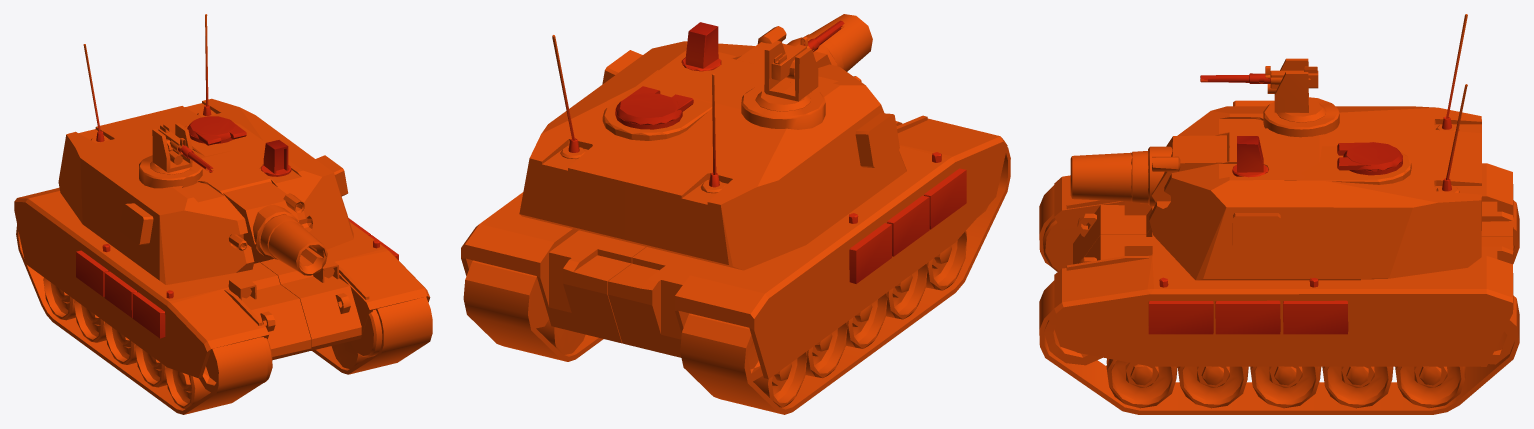
Rendered from WbMdTankLowpoly.fbx.
The picture shows the model from 3 angles, left to right: view 1: azimuth 30°, elevation 25°; view 2: azimuth 150°, elevation 25°; view 3: azimuth 270°, elevation 25°; orthographic projection. The views are drawn at different scales.
Parts seen in each view (by area): view 1: Body.002, TurretMain.002, BarrelCannon.002, Wheel.021, Wheel.019, Wheel.017, Wheel.018, Wheel.020, BarrelMachineGun.001, Wheel.012, WheelFixed.007; view 2: Body.002, TurretMain.002, BarrelCannon.002, Wheel.017, Wheel.021, Wheel.020, Wheel.018, Wheel.019, BarrelMachineGun.001, Wheel.016, WheelFixed.005; view 3: Body.002, TurretMain.002, BarrelCannon.002, Wheel.012, Wheel.014, Wheel.013, Wheel.016, Wheel.015, BarrelMachineGun.001, WheelFixed.004, WheelFixed.005.
Part boxes in pixels (bbox=[...]): Body.002: bbox=[14, 187, 432, 414]; TurretMain.002: bbox=[58, 14, 353, 284]; BarrelCannon.002: bbox=[223, 181, 327, 275]; Wheel.021: bbox=[165, 366, 210, 408]; Wheel.019: bbox=[104, 322, 136, 364]; Wheel.017: bbox=[43, 277, 75, 320]; Wheel.018: bbox=[74, 300, 106, 342]; Wheel.020: bbox=[135, 344, 167, 387]; BarrelMachineGun.001: bbox=[158, 124, 213, 172]; Wheel.012: bbox=[331, 341, 367, 368]; WheelFixed.007: bbox=[199, 351, 216, 392]; Body.002: bbox=[461, 115, 1010, 414]; TurretMain.002: bbox=[519, 22, 906, 270]; BarrelCannon.002: bbox=[737, 14, 872, 71]; Wheel.017: bbox=[753, 351, 806, 407]; Wheel.021: bbox=[926, 231, 966, 290]; Wheel.020: bbox=[886, 263, 927, 319]; Wheel.018: bbox=[805, 322, 847, 378]; Wheel.019: bbox=[846, 292, 887, 348]; BarrelMachineGun.001: bbox=[771, 20, 844, 80]; Wheel.016: bbox=[536, 319, 585, 354]; WheelFixed.005: bbox=[530, 281, 548, 328]; Body.002: bbox=[1039, 163, 1519, 414]; TurretMain.002: bbox=[1149, 14, 1481, 280]; BarrelCannon.002: bbox=[1070, 135, 1226, 206]; Wheel.012: bbox=[1106, 358, 1177, 408]; Wheel.014: bbox=[1250, 366, 1321, 408]; Wheel.013: bbox=[1177, 366, 1248, 408]; Wheel.016: bbox=[1395, 366, 1466, 408]; Wheel.015: bbox=[1322, 366, 1393, 408]; BarrelMachineGun.001: bbox=[1200, 66, 1318, 93]; WheelFixed.004: bbox=[1044, 314, 1102, 365]; WheelFixed.005: bbox=[1488, 324, 1514, 364].
Bounding box in the file's own units: 0.6662 × 0.6839 × 0.9789.
